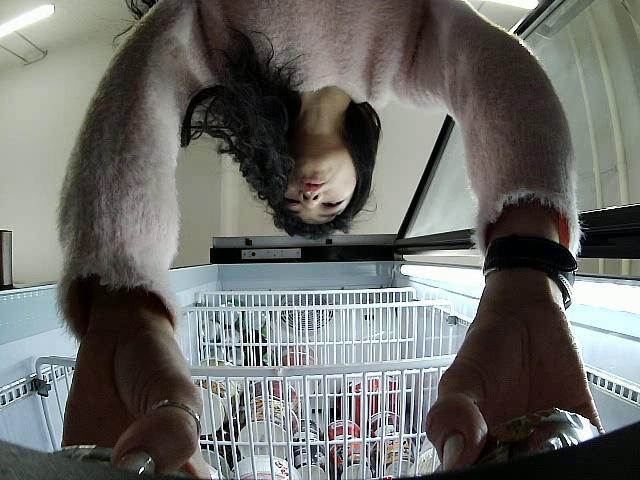00_hand: (425, 313, 607, 469), (63, 324, 204, 480)
